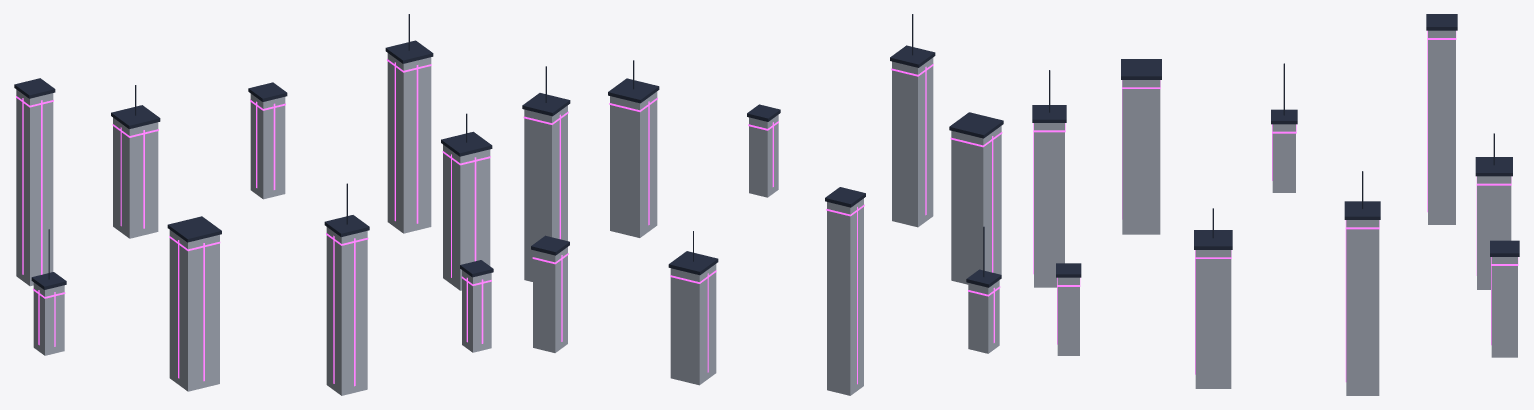
3 views of the same model, side by side, from view 1: azimuth 30°, elevation 25°; view 2: azimuth 150°, elevation 25°; view 3: azimuth 270°, elevation 25° (orthographic). The views are drawn at different scales.
Visible parts, largest first — view 1: nexo_spires_pixel.lod0; view 2: nexo_spires_pixel.lod0; view 3: nexo_spires_pixel.lod0.
Part boxes in pixels (bbox=[...]): nexo_spires_pixel.lod0: bbox=[14, 14, 493, 395]; nexo_spires_pixel.lod0: bbox=[522, 14, 1003, 395]; nexo_spires_pixel.lod0: bbox=[1032, 14, 1519, 395].
Size of the model in its own units: 25.99 by 12.3 by 24.95.
